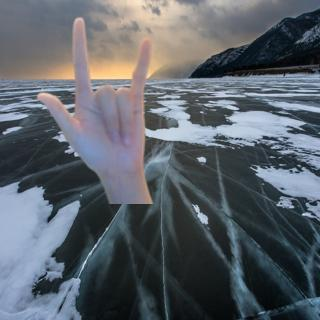ILY: (34, 12, 157, 179)
